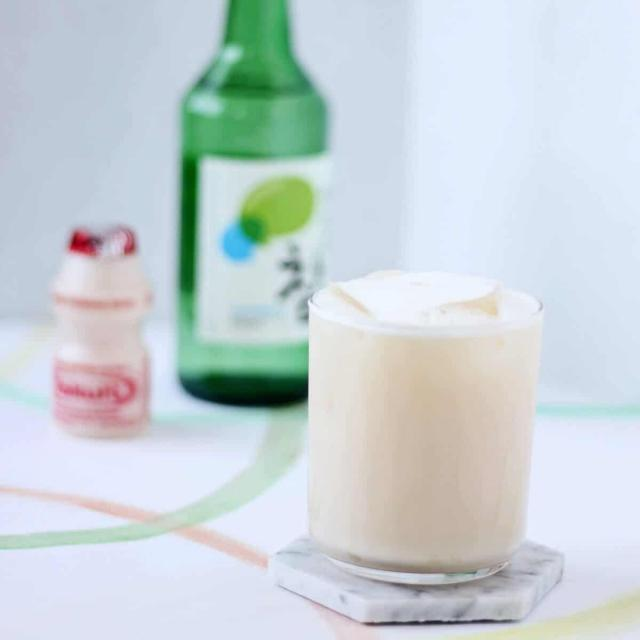soju-bottle: (172, 1, 332, 414)
